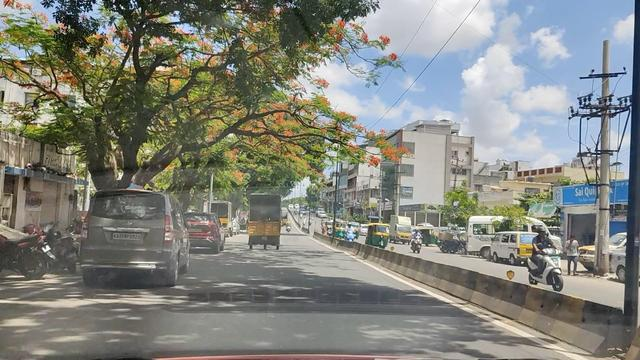HMV: (247, 192, 281, 247)
LMV: (83, 189, 176, 275)
